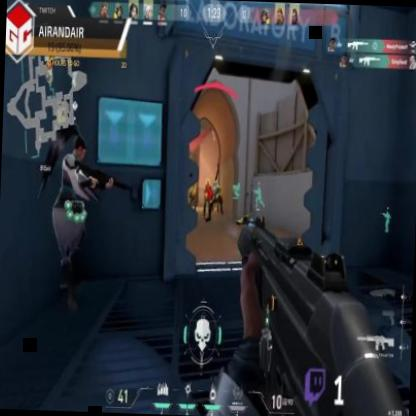enemy: (202, 178, 214, 218), (187, 178, 198, 212)
enemy_head: (191, 178, 195, 188), (206, 178, 209, 188), (214, 181, 218, 188)
